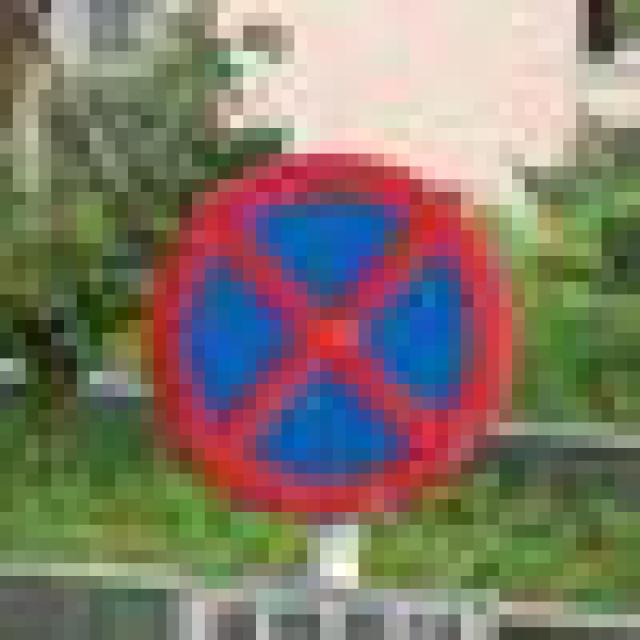no_parking: (141, 141, 499, 512)
